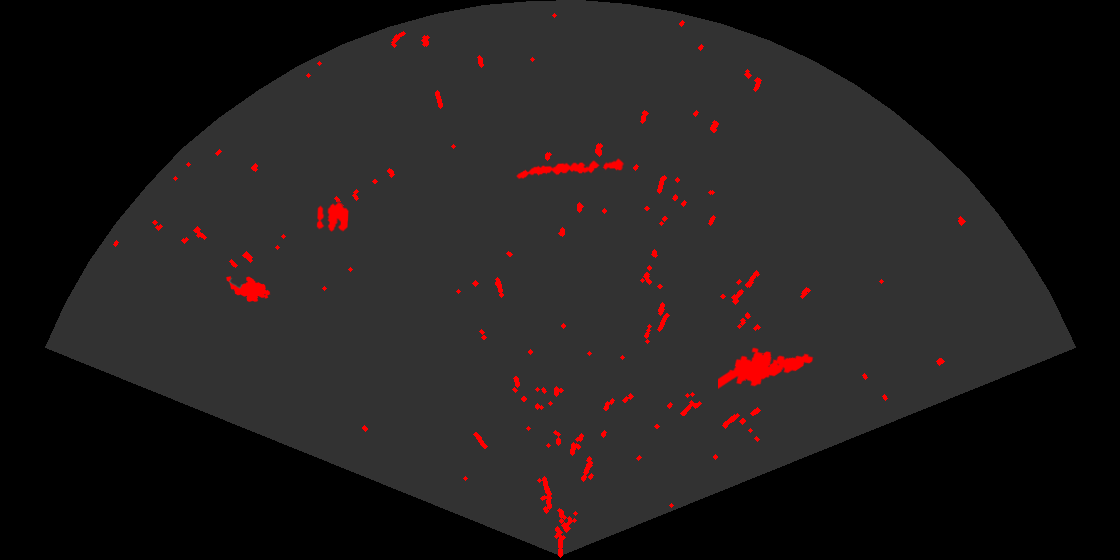AUV: (225, 275, 272, 304)
ball: (315, 201, 350, 233)
chain: (515, 157, 625, 181)
frogman: (718, 346, 815, 391)
